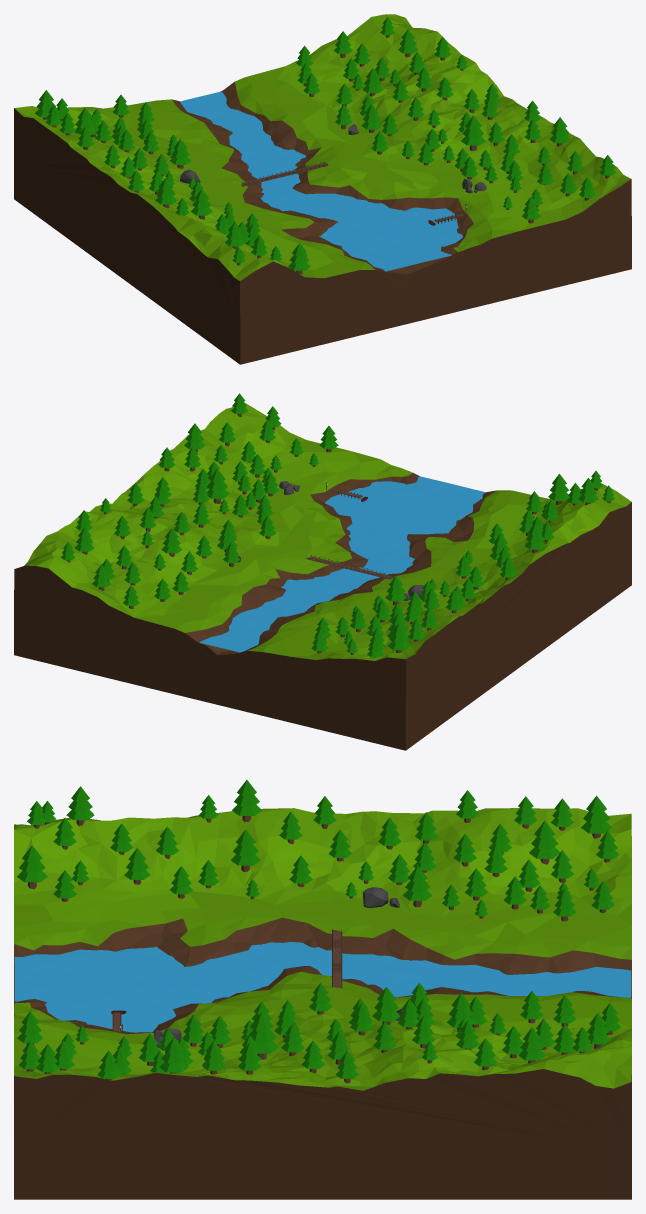
3 views of the same model, one above another, from view 1: azimuth 30°, elevation 25°; view 2: azimuth 150°, elevation 25°; view 3: azimuth 270°, elevation 25° (orthographic). The views are drawn at different scales.
Parts seen in each view (by area): view 1: Terrain, Trees, Water; view 2: Terrain, Trees, Water; view 3: Terrain, Trees, Water, Wooden Bridge.
Part boxes in pixels (x1,y1,x2,y2): Terrain: (14,14,631,364); Trees: (35,17,616,274); Water: (180,91,462,271); Terrain: (14,402,631,750); Trees: (61,393,614,657); Water: (199,476,485,652); Terrain: (14,808,631,1199); Trees: (17,780,621,1083); Water: (14,942,631,1032); Wooden Bridge: (332,929,342,988).
Bounding box in the file's own units: 12 × 3.57 × 12.
